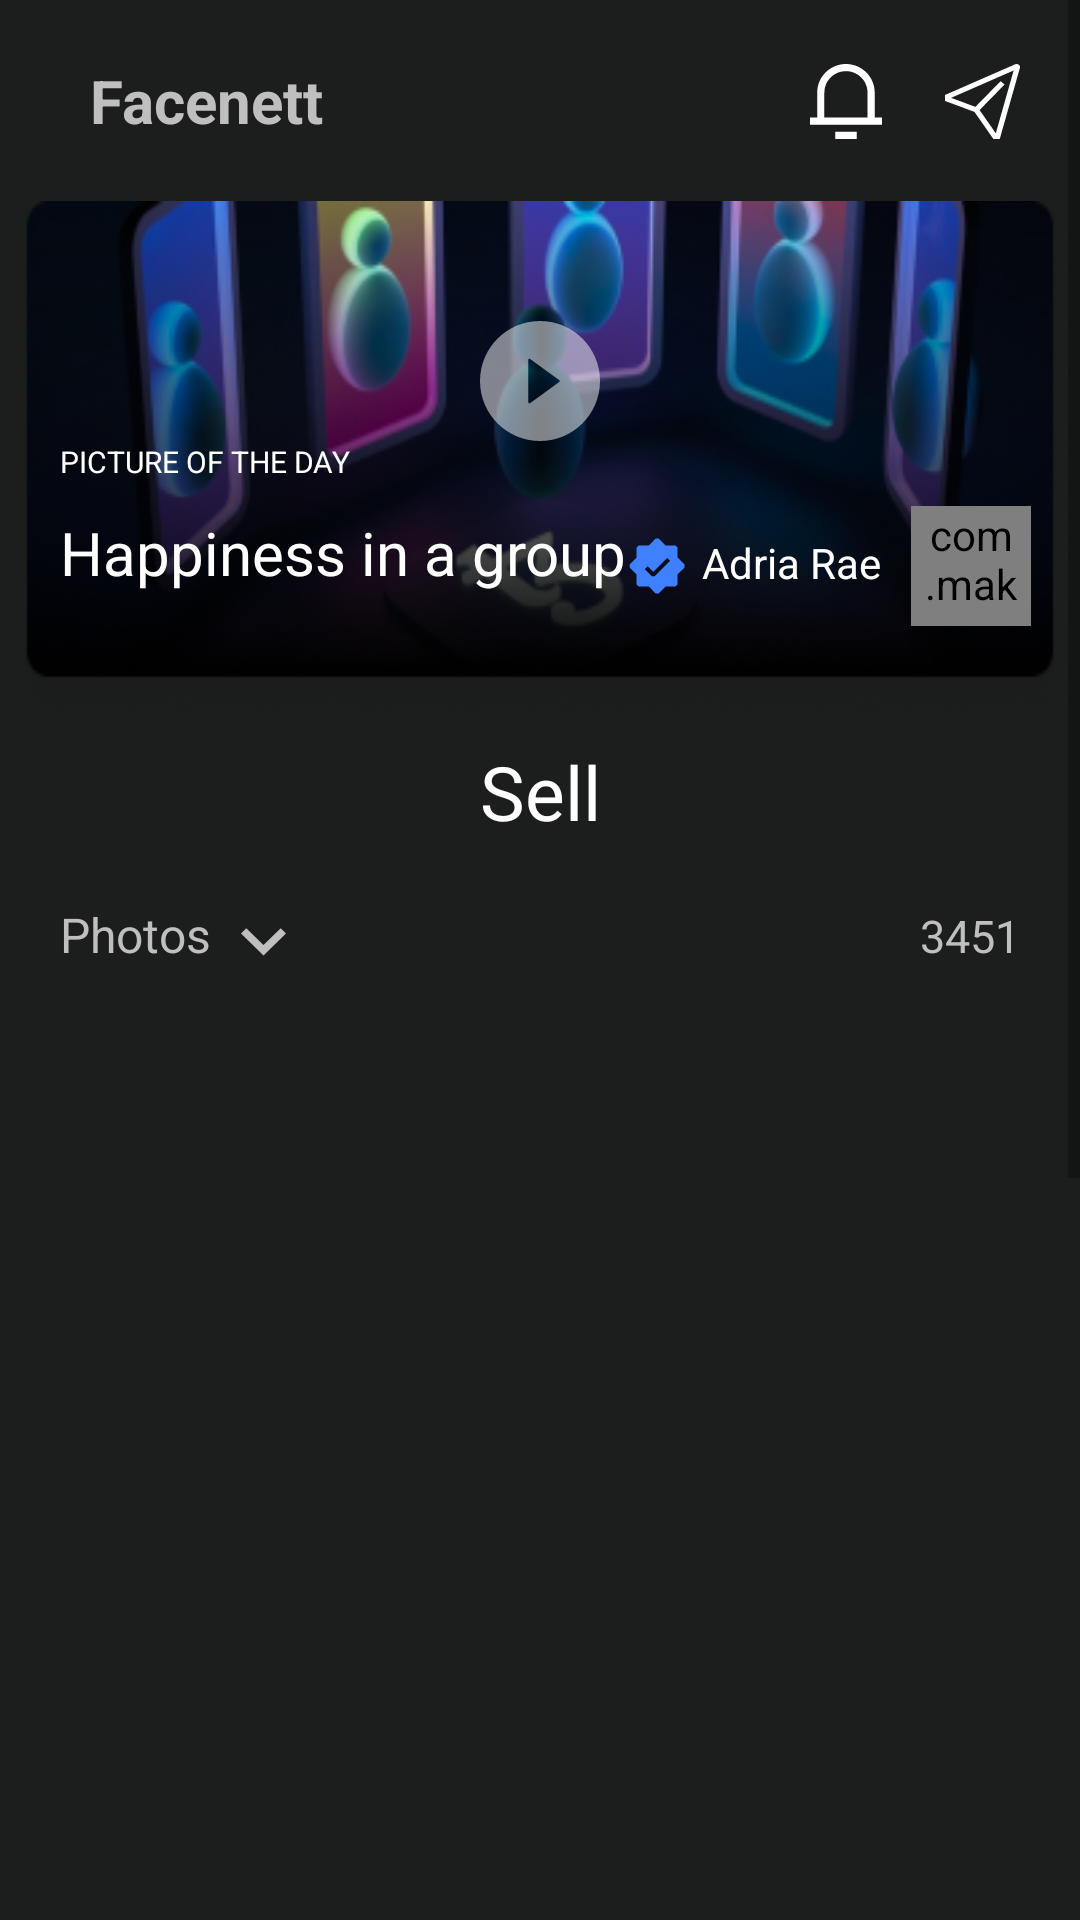

Icons on this 1080 × 1920 Android screen, each with the point to tap as (x,y):
down: (263,942)
fly: (982,101)
mark: (657,566)
play: (540,381)
ring: (846,101)
